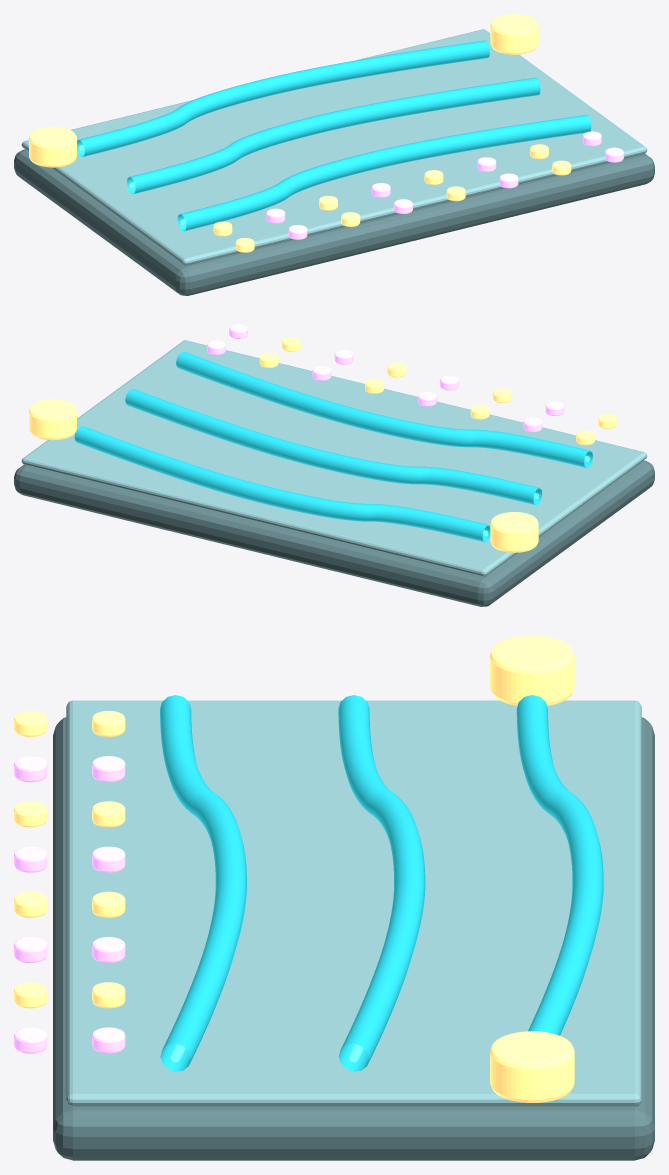
File: sequencing_flowcell.glb
3 views of the same model, one above another, from view 1: azimuth 30°, elevation 25°; view 2: azimuth 150°, elevation 25°; view 3: azimuth 270°, elevation 25° (orthographic). The views are drawn at different scales.
Parts seen in each view (by area): view 1: FLOWCELL_WINDOW, FLOWCELL_BODY, FLOWCELL_CHANNEL_2, FLOWCELL_CHANNEL_1, FLOWCELL_CHANNEL_3, FLOWCELL_PORT_OUTLET, FLOWCELL_PORT_INLET; view 2: FLOWCELL_WINDOW, FLOWCELL_BODY, FLOWCELL_CHANNEL_2, FLOWCELL_CHANNEL_3, FLOWCELL_CHANNEL_1, FLOWCELL_PORT_INLET, FLOWCELL_PORT_OUTLET; view 3: FLOWCELL_WINDOW, FLOWCELL_BODY, FLOWCELL_CHANNEL_2, FLOWCELL_CHANNEL_3, FLOWCELL_CHANNEL_1, FLOWCELL_PORT_OUTLET, FLOWCELL_PORT_INLET, FLOWCELL_WELL_08, FLOWCELL_WELL_16, FLOWCELL_WELL_03, FLOWCELL_WELL_04, FLOWCELL_WELL_07 (+11 smaller).
Part boxes in pixels (x1,y1,x2,y2): FLOWCELL_WINDOW: (21, 29, 647, 265); FLOWCELL_BODY: (14, 149, 654, 295); FLOWCELL_CHANNEL_2: (126, 77, 540, 193); FLOWCELL_CHANNEL_1: (77, 40, 489, 156); FLOWCELL_CHANNEL_3: (177, 115, 591, 231); FLOWCELL_PORT_OUTLET: (490, 14, 538, 54); FLOWCELL_PORT_INLET: (29, 126, 76, 167); FLOWCELL_WINDOW: (21, 340, 647, 576); FLOWCELL_BODY: (14, 460, 654, 606); FLOWCELL_CHANNEL_2: (125, 389, 542, 504); FLOWCELL_CHANNEL_3: (176, 352, 592, 467); FLOWCELL_CHANNEL_1: (74, 426, 490, 542); FLOWCELL_PORT_INLET: (490, 512, 538, 552); FLOWCELL_PORT_OUTLET: (29, 399, 76, 440); FLOWCELL_WINDOW: (66, 700, 641, 1106); FLOWCELL_BODY: (53, 717, 654, 1160); FLOWCELL_CHANNEL_2: (338, 695, 425, 1071); FLOWCELL_CHANNEL_3: (160, 695, 246, 1071); FLOWCELL_CHANNEL_1: (516, 695, 603, 1035); FLOWCELL_PORT_OUTLET: (490, 1031, 574, 1102); FLOWCELL_PORT_INLET: (490, 635, 574, 705); FLOWCELL_WELL_08: (14, 1027, 47, 1053); FLOWCELL_WELL_16: (92, 1027, 125, 1053); FLOWCELL_WELL_03: (14, 801, 47, 827); FLOWCELL_WELL_04: (14, 846, 47, 872); FLOWCELL_WELL_07: (14, 982, 47, 1008).
Size of the model in its own units: 4.58 by 0.56 by 2.88.
